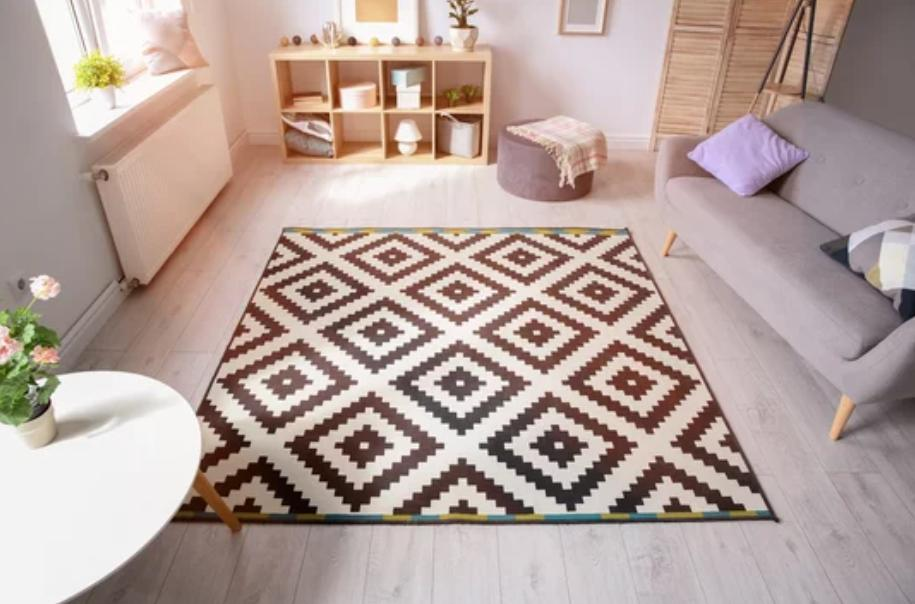carpet: (198, 229, 774, 523)
